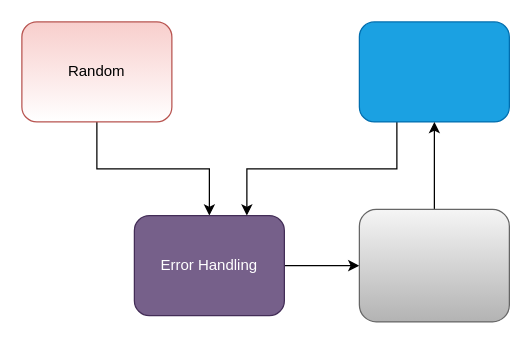
This 531x344 diagram has some shape labels left out. The box of each missing label's shape, as (x1, y1, x2, y2) in pixels:
Dispatcher: (358, 208, 509, 322)
Simulator: (358, 21, 509, 122)
